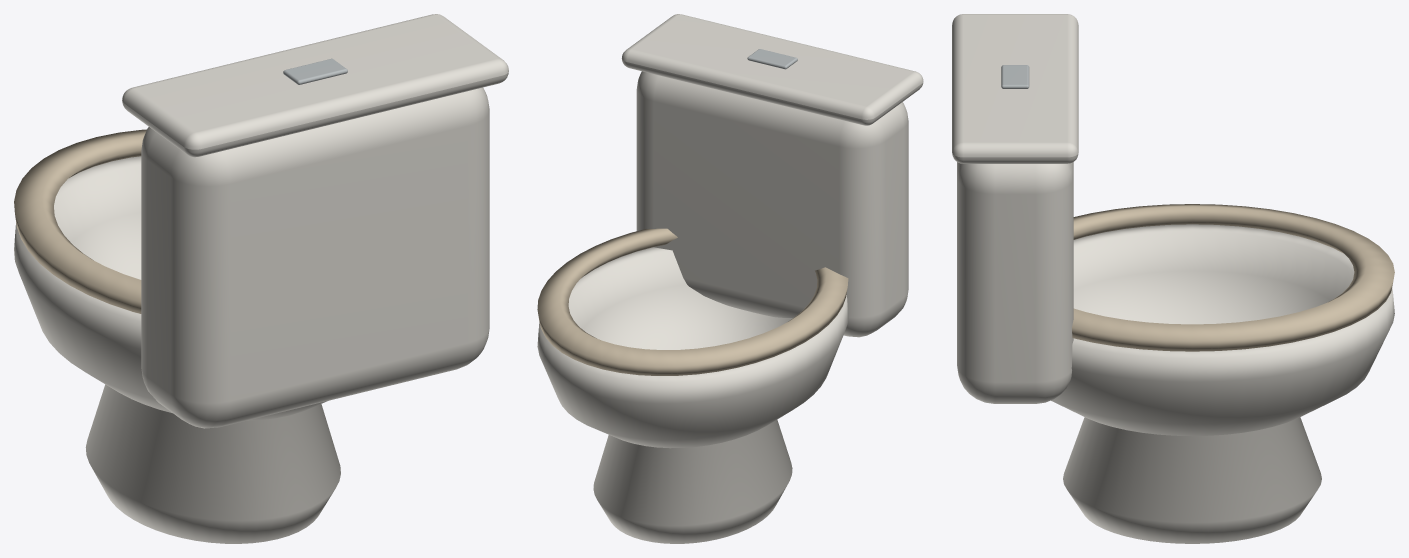
Rendered from toilet.glb.
The picture shows the model from 3 angles, left to right: view 1: azimuth 30°, elevation 25°; view 2: azimuth 150°, elevation 25°; view 3: azimuth 270°, elevation 25°; orthographic projection. The views are drawn at different scales.
Visible parts, largest first — view 1: Cistern, Porcelain pedestal, Cistern lid, Hollow bowl, Oval seat, Flush button; view 2: Cistern, Hollow bowl, Porcelain pedestal, Cistern lid, Oval seat, Flush button; view 3: Hollow bowl, Cistern, Porcelain pedestal, Cistern lid, Oval seat, Flush button.
Boxes of the visible parts, bbox=[...] form: Cistern: bbox=[141, 87, 489, 428]; Porcelain pedestal: bbox=[85, 384, 340, 543]; Cistern lid: bbox=[122, 14, 508, 157]; Hollow bowl: bbox=[14, 156, 327, 420]; Oval seat: bbox=[14, 129, 146, 313]; Flush button: bbox=[283, 58, 347, 84]; Cistern: bbox=[636, 71, 908, 337]; Hollow bowl: bbox=[537, 247, 848, 448]; Porcelain pedestal: bbox=[593, 420, 792, 543]; Cistern lid: bbox=[621, 14, 923, 125]; Oval seat: bbox=[537, 228, 848, 375]; Flush button: bbox=[747, 49, 797, 69]; Hollow bowl: bbox=[1051, 224, 1394, 436]; Cistern: bbox=[957, 162, 1073, 403]; Porcelain pedestal: bbox=[1063, 417, 1321, 543]; Cistern lid: bbox=[952, 14, 1078, 163]; Oval seat: bbox=[1072, 204, 1394, 351]; Flush button: bbox=[1001, 65, 1029, 88].
Bounding box in the file's own units: 0.64 × 0.9405 × 0.875.
